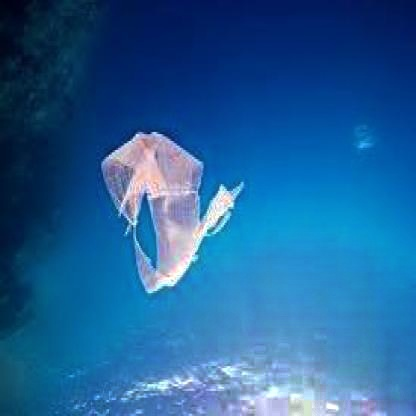pbag: (98, 130, 245, 298)
